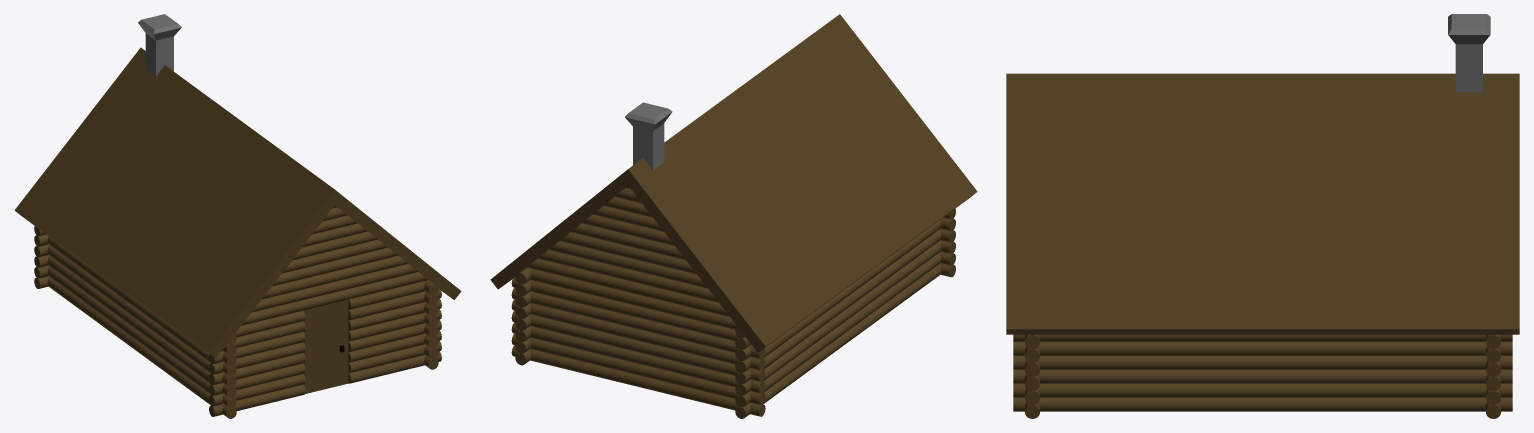
Rendered from export chalet.fbx.
3 renders of one model, left to right at view 1: azimuth 30°, elevation 25°; view 2: azimuth 150°, elevation 25°; view 3: azimuth 270°, elevation 25°, orthographic. The views are drawn at different scales.
Parts seen in each view (by area): view 1: pPlane4, pCube1, pCylinder72, pPlane3, pCylinder15, pCylinder18, pCylinder16, pCylinder17, pCylinder85, pCylinder84, pCylinder82, pCylinder83 (+12 smaller); view 2: pPlane4, pCylinder9, pCylinder11, pCylinder10, pCylinder12, pCylinder8, pCylinder7, pCylinder27, pCylinder29, pCylinder40, pPlane3, pCylinder17 (+12 smaller); view 3: pPlane3, pPlane4, pCylinder24, pCylinder23, pCylinder22, pCylinder21, pCylinder20, pCylinder19, pCube2.
Part boxes in pixels (bbox=[...]): pPlane4: bbox=[14, 47, 341, 357]; pCube1: bbox=[303, 299, 348, 393]; pCylinder72: bbox=[242, 272, 427, 325]; pPlane3: bbox=[328, 193, 461, 299]; pCylinder15: bbox=[47, 245, 236, 387]; pCylinder18: bbox=[47, 276, 236, 418]; pCylinder16: bbox=[47, 255, 236, 397]; pCylinder17: bbox=[47, 266, 236, 408]; pCylinder85: bbox=[209, 319, 441, 385]; pCylinder84: bbox=[209, 330, 441, 395]; pCylinder82: bbox=[209, 351, 441, 416]; pCylinder83: bbox=[209, 340, 441, 406]; pPlane4: bbox=[620, 14, 977, 352]; pCylinder9: bbox=[511, 310, 765, 382]; pCylinder11: bbox=[511, 333, 765, 405]; pCylinder10: bbox=[511, 322, 765, 393]; pCylinder12: bbox=[511, 345, 765, 416]; pCylinder8: bbox=[511, 299, 765, 370]; pCylinder7: bbox=[511, 287, 765, 359]; pCylinder27: bbox=[511, 277, 751, 345]; pCylinder29: bbox=[529, 268, 737, 329]; pCylinder40: bbox=[527, 258, 729, 316]; pPlane3: bbox=[490, 171, 634, 289]; pCylinder17: bbox=[735, 252, 941, 407]; pPlane3: bbox=[1006, 88, 1519, 334]; pPlane4: bbox=[1006, 73, 1519, 87]; pCylinder24: bbox=[1013, 397, 1512, 411]; pCylinder23: bbox=[1013, 383, 1512, 397]; pCylinder22: bbox=[1013, 369, 1512, 383]; pCylinder21: bbox=[1013, 356, 1512, 369]; pCylinder20: bbox=[1013, 342, 1512, 355]; pCylinder19: bbox=[1013, 334, 1512, 341]; pCube2: bbox=[1448, 14, 1490, 92].
Bounding box in the file's own units: 25.04 × 23.29 × 33.38.
